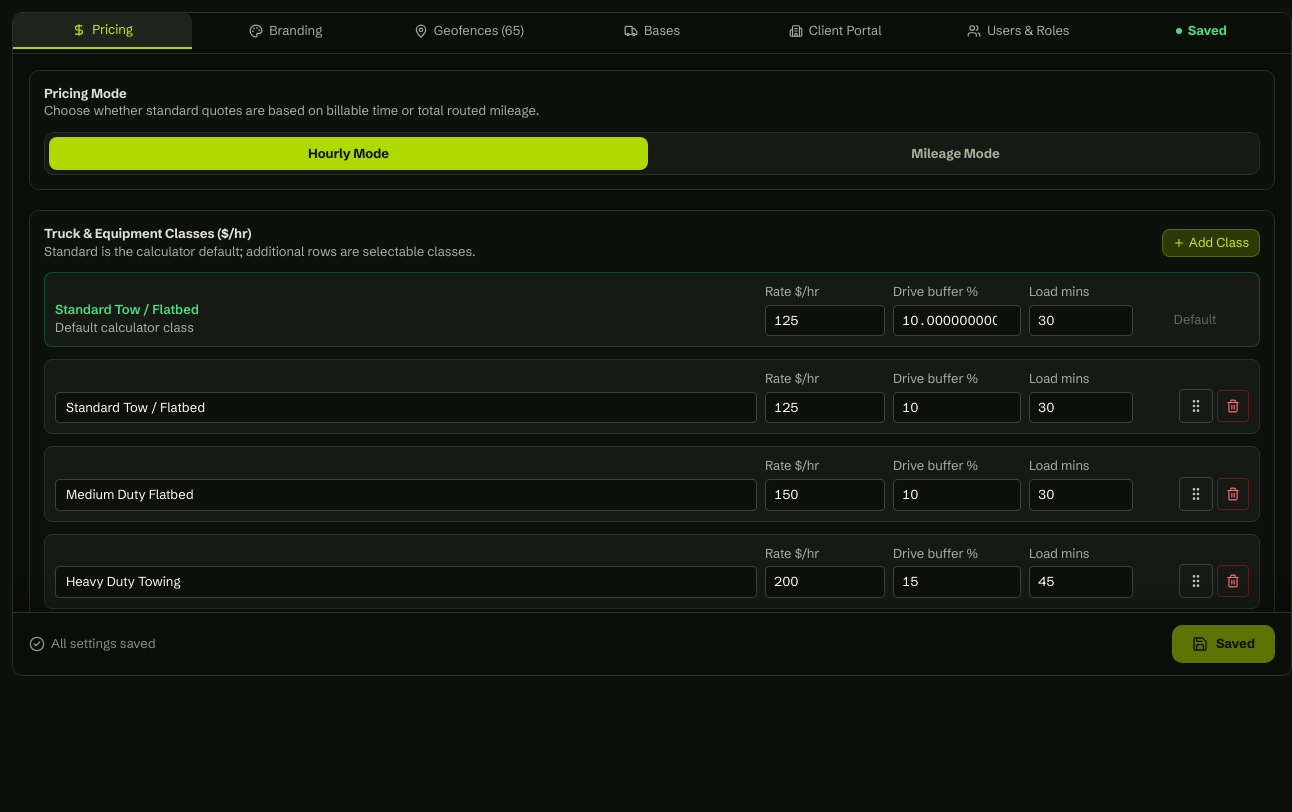
Test: Settings unsaved-change behavior › successfully saving clears the unsaved-changes banner
Click the button "Mileage Mode" at (956, 153), box [656,137,1255,170]
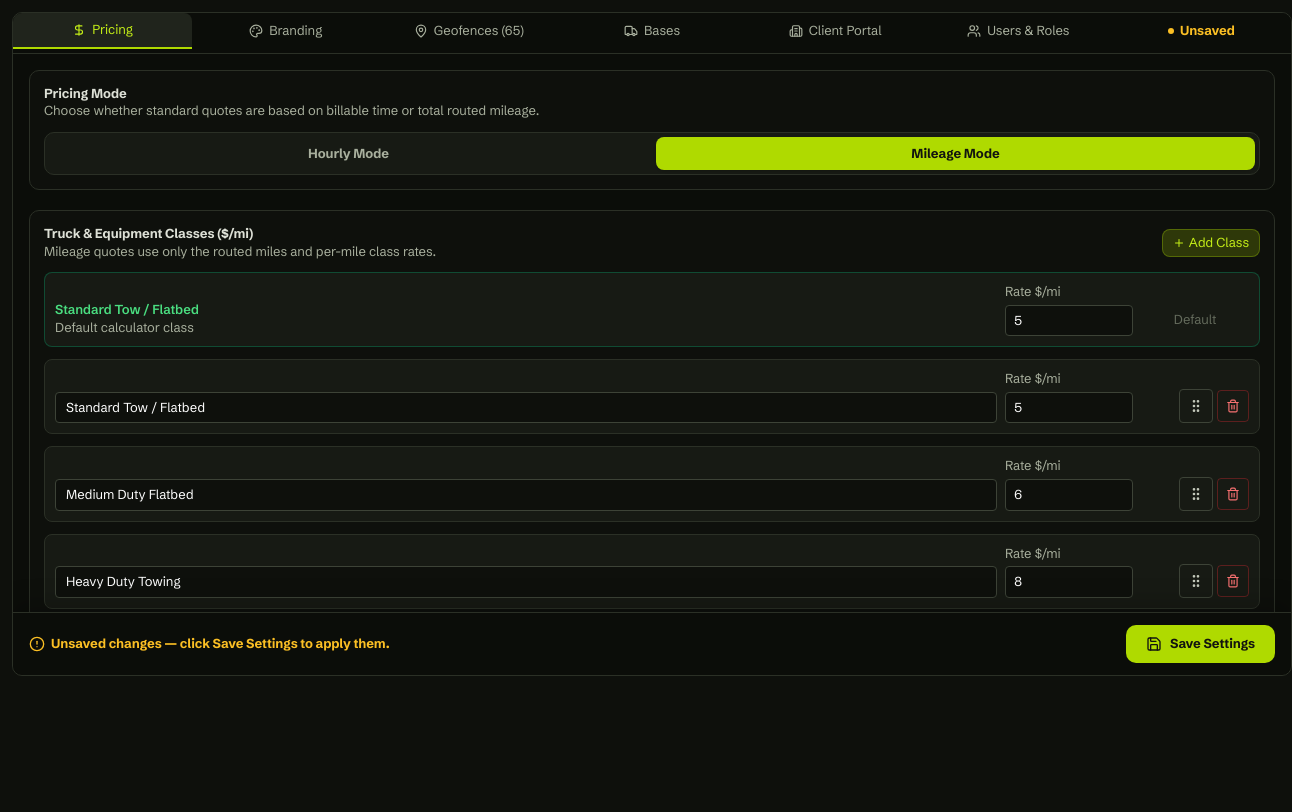
Result: the text "Unsaved changes — click Save Settings to apply them." is shown at [29,636,390,653]
Click the button "Save Settings" at (1200, 644), box [1126,626,1275,663]
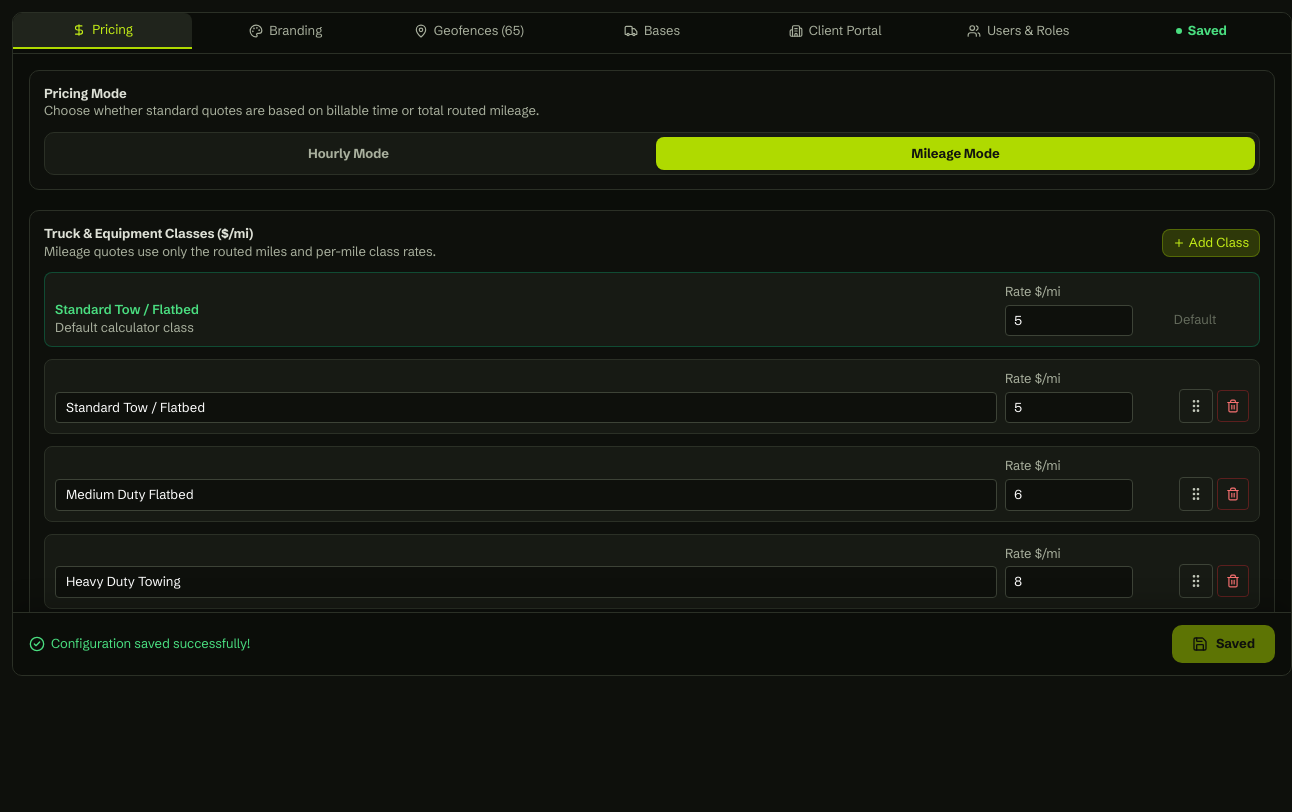
Result: the text "Unsaved changes" is gone
Result: the text "Configuration saved successfully!" is shown at [29,636,250,653]
